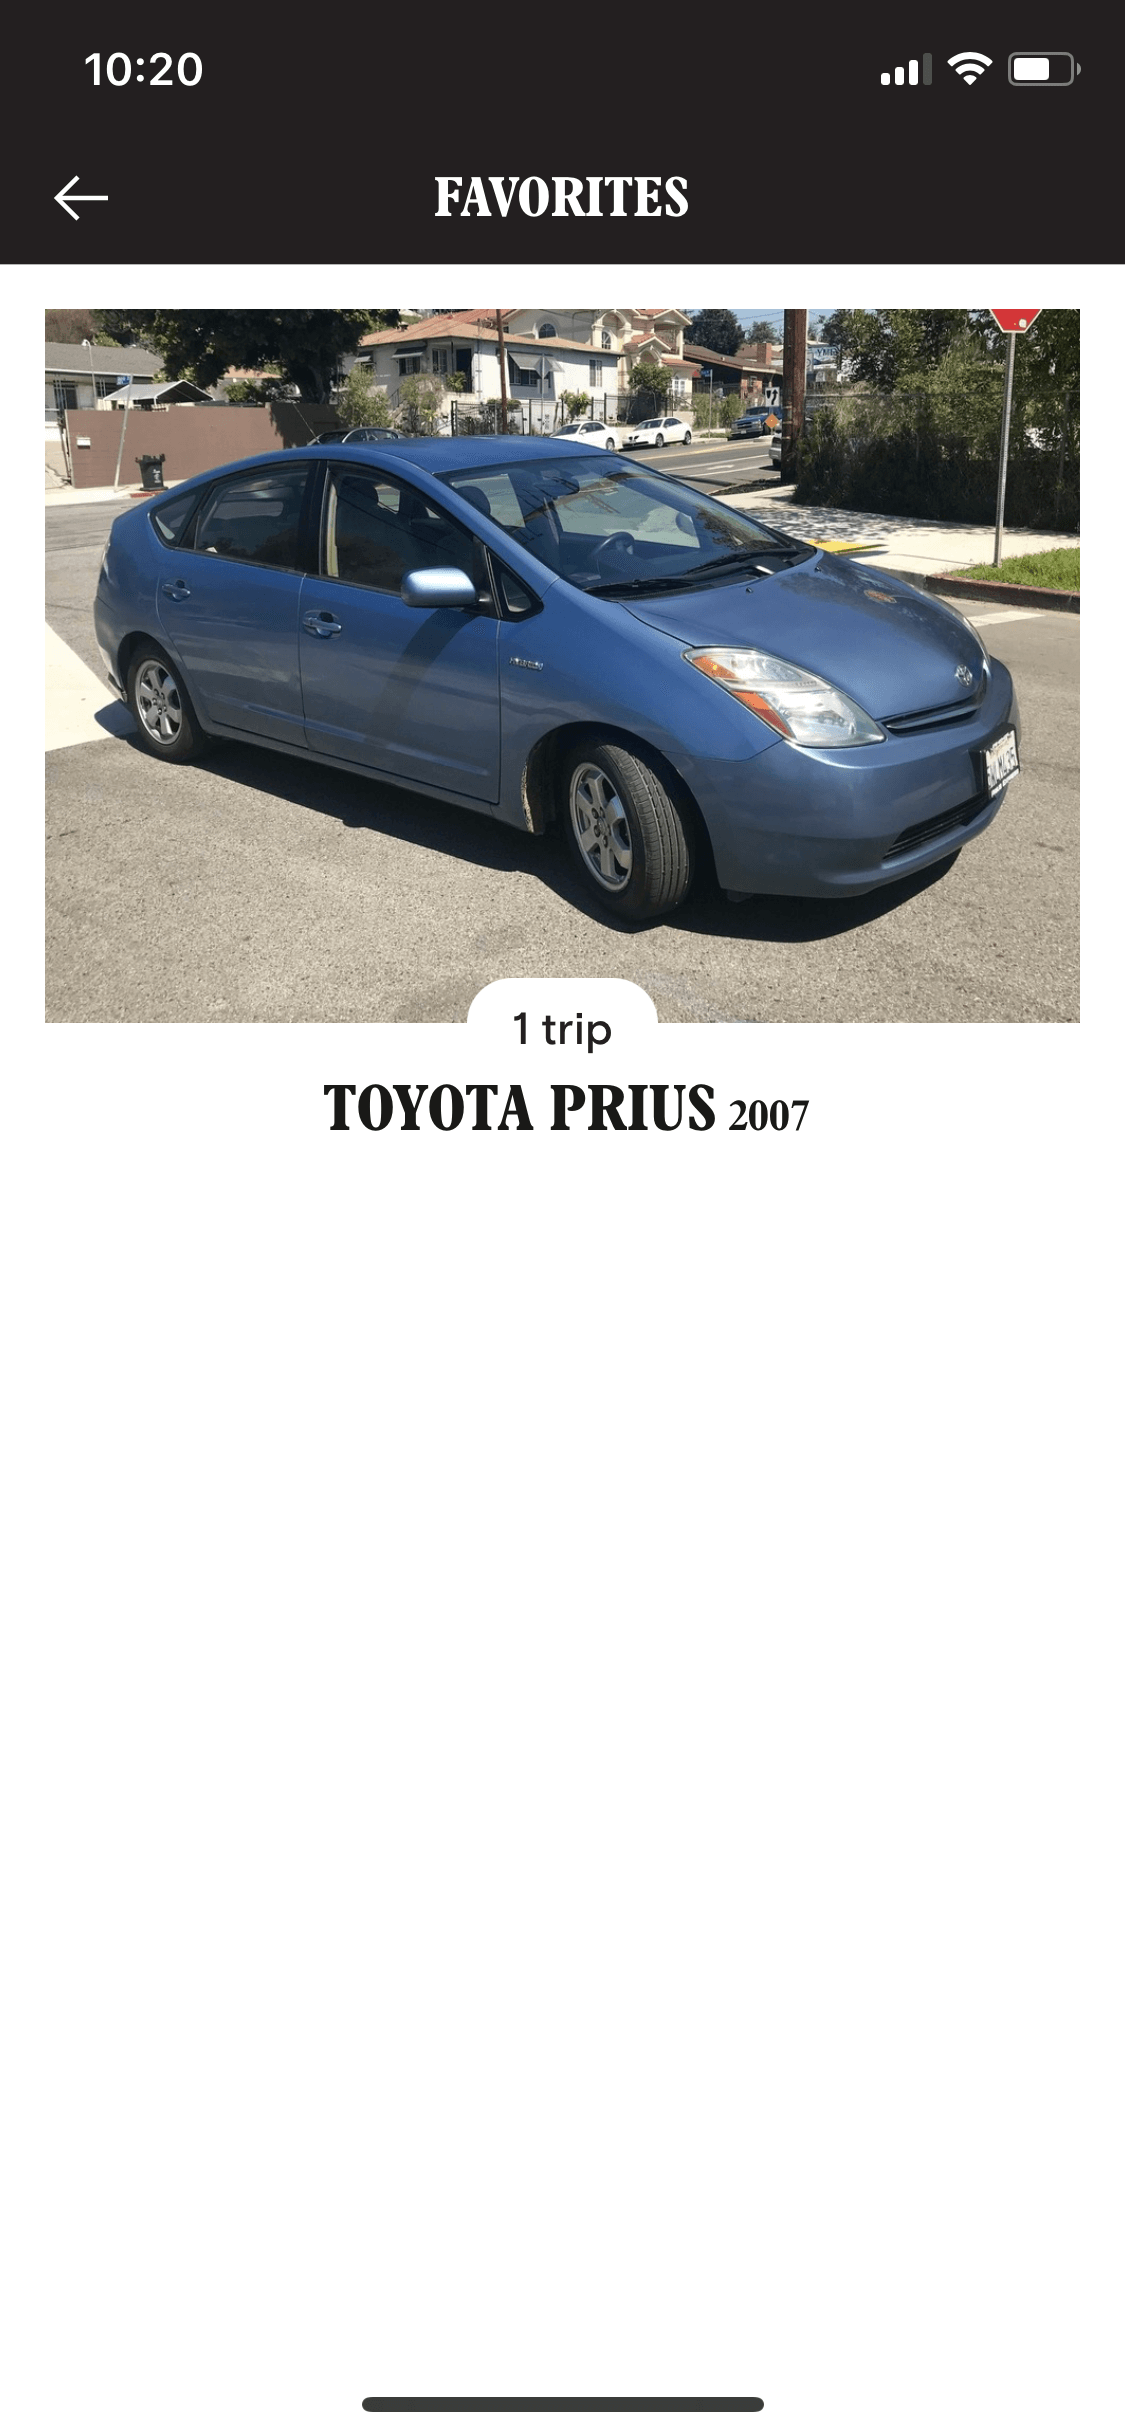Buttons: (30, 138, 141, 247)
